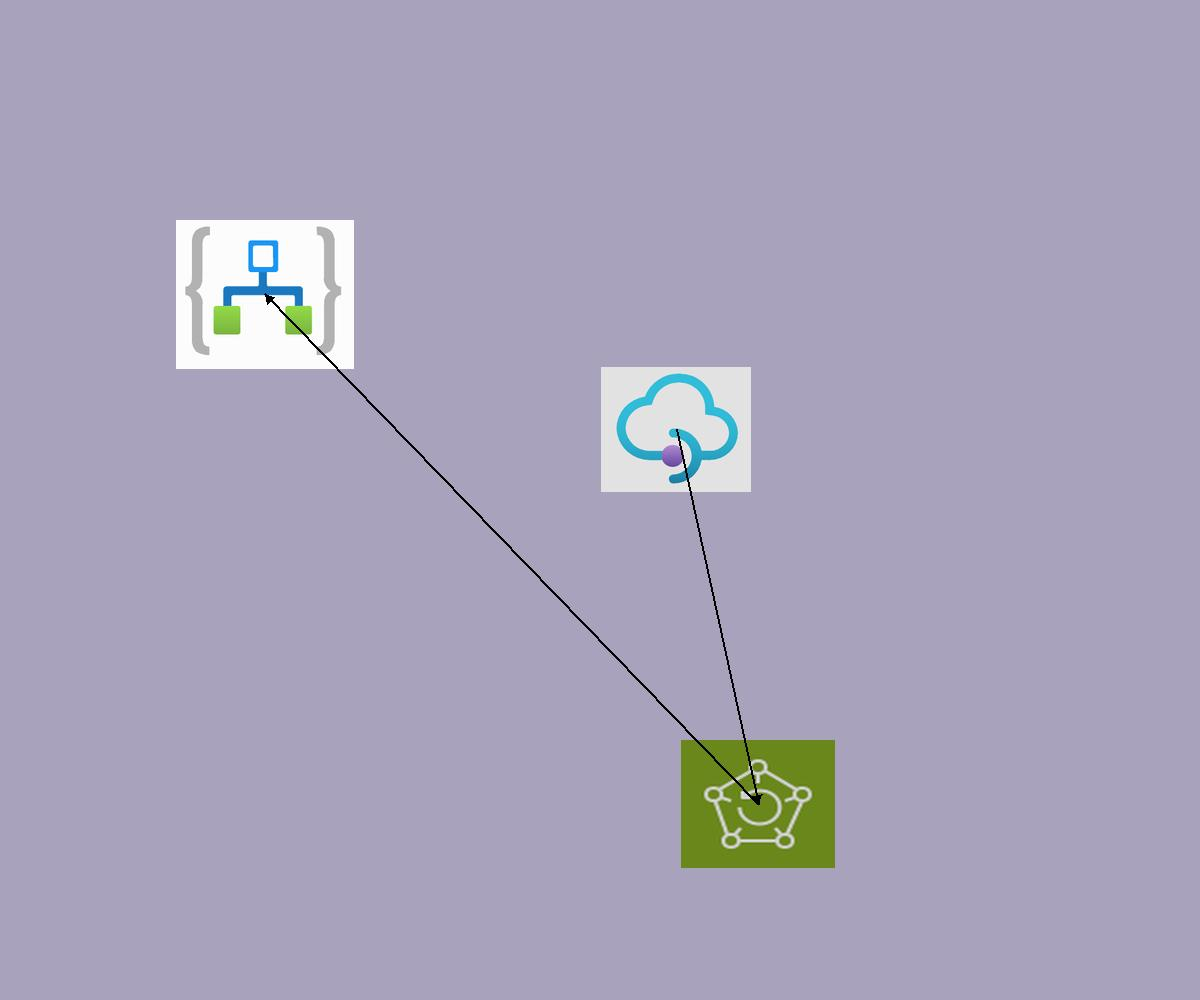AWS-Backup: (681, 740, 835, 868)
Azure_api_gateway: (601, 367, 751, 492)
Azure_integration-204-Logic-Apps: (176, 220, 354, 369)
